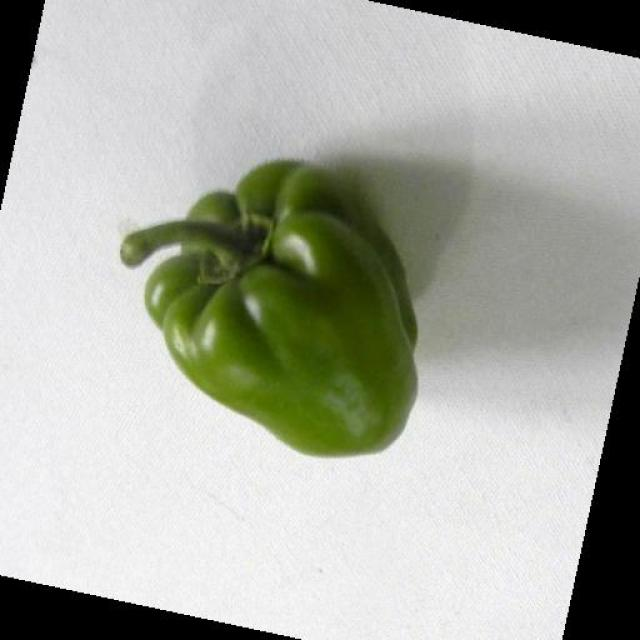Fresh_Capsicum: (126, 153, 452, 491)
